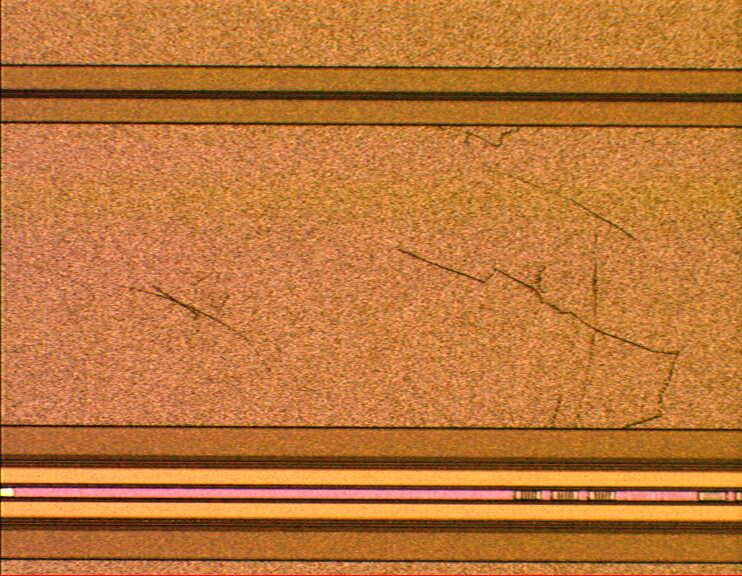SCRATCH: (1, 102, 691, 447)
